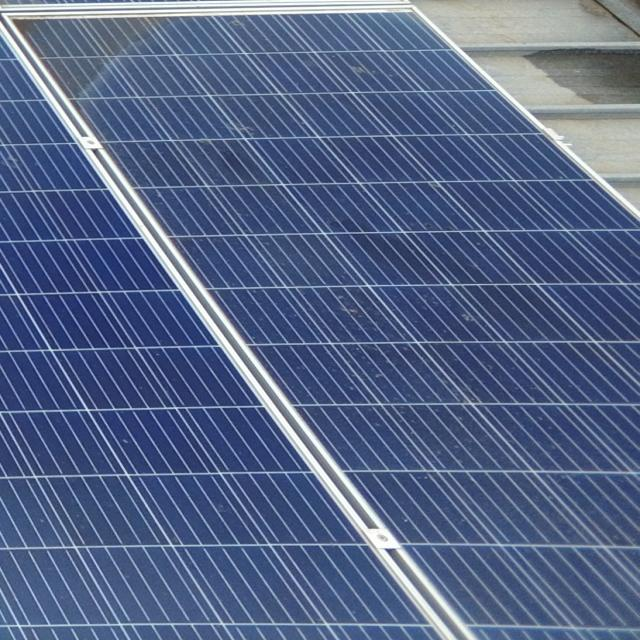Dust: (0, 9, 211, 92)
